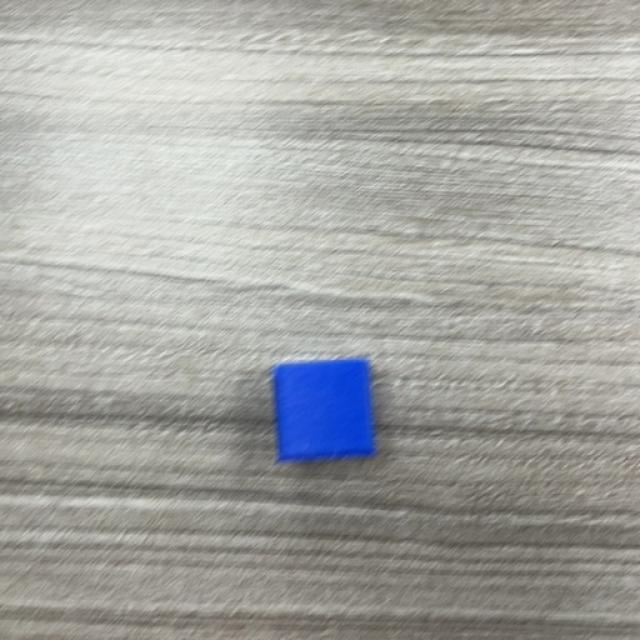Azul: (271, 359, 376, 464)
